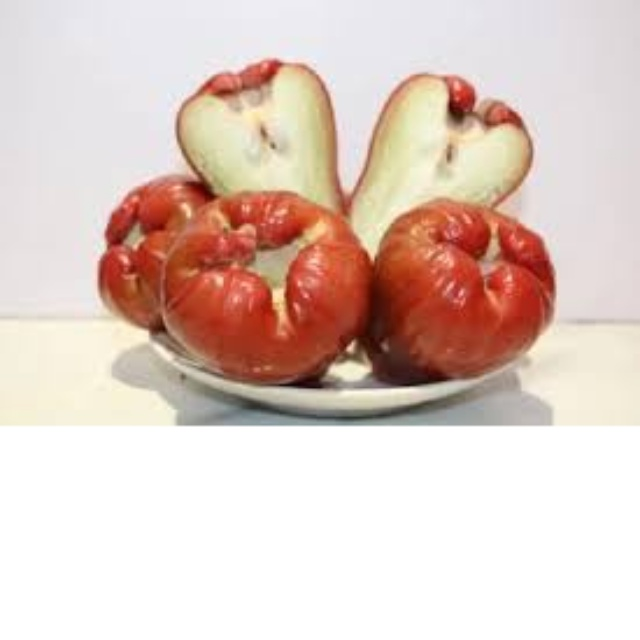xoai: (147, 196, 364, 388), (367, 200, 569, 385)
